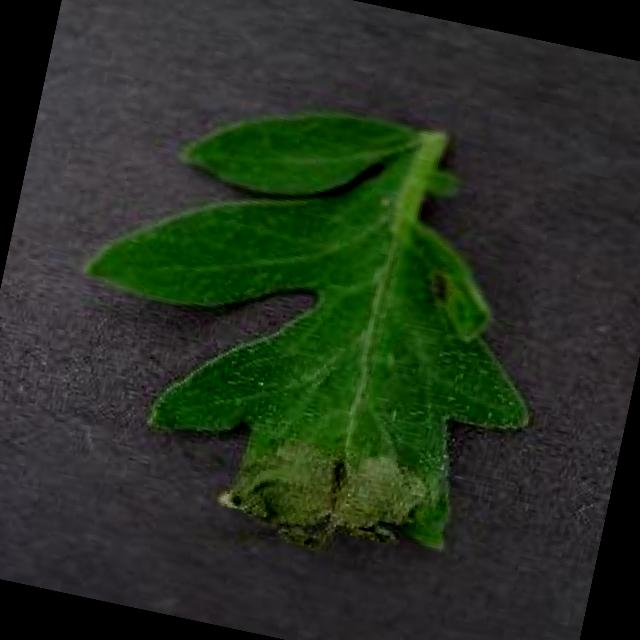leaf blight: (84, 114, 532, 553)
